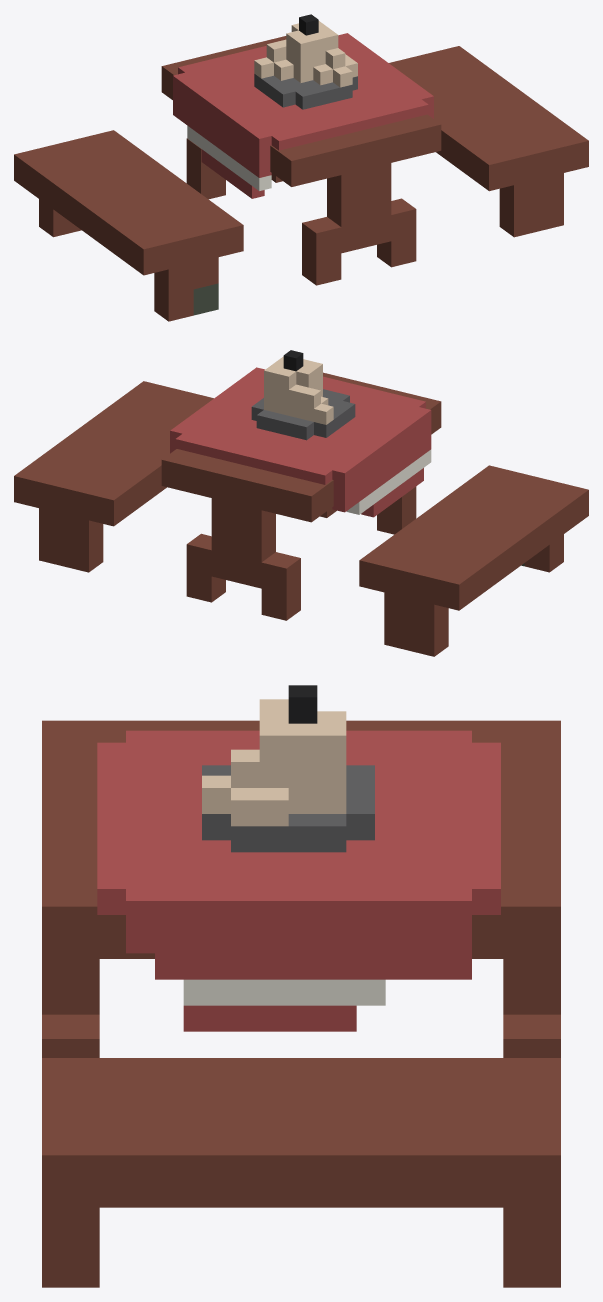
Rendered from table_lv1.fbx.
3 renders of one model, top to bottom at view 1: azimuth 30°, elevation 25°; view 2: azimuth 150°, elevation 25°; view 3: azimuth 270°, elevation 25°, orthographic. The views are drawn at different scales.
Visible parts, largest first — view 1: Cylinder.030; view 2: Cylinder.030; view 3: Cylinder.030.
Part boxes in pixels (box(x1,y1,x2,y2)): Cylinder.030: box(14, 14, 588, 321); Cylinder.030: box(14, 350, 588, 656); Cylinder.030: box(42, 685, 560, 1287).
Size of the model in its own units: 357 by 157 by 180.
